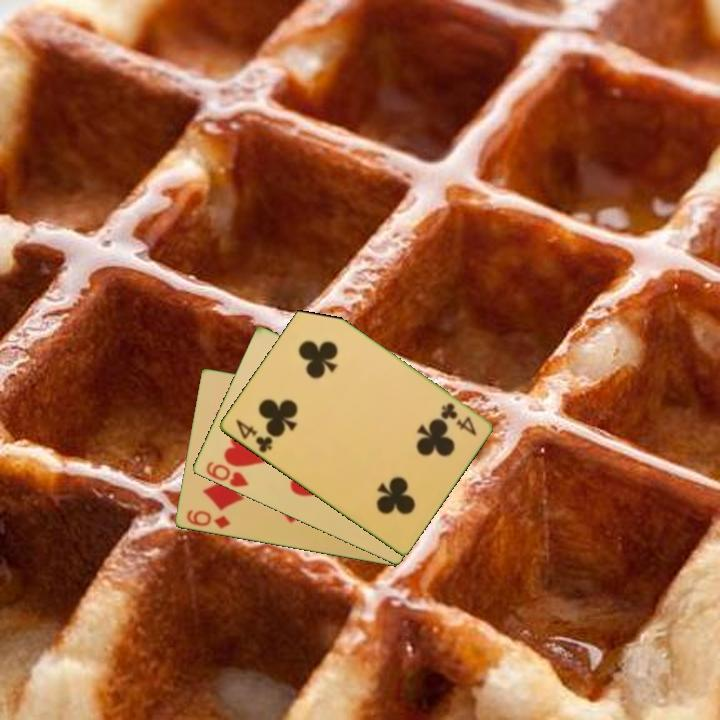4c: (231, 416, 275, 456), (437, 399, 480, 439)
6d: (183, 506, 233, 532)
6h: (202, 458, 251, 490)
